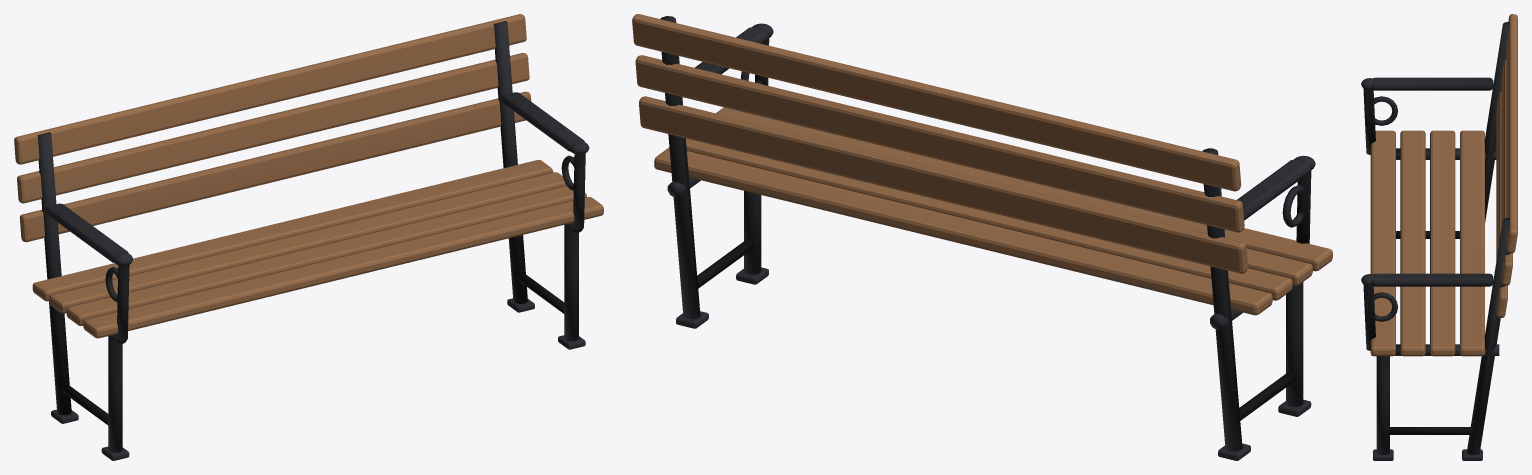
The model's file is bench.glb.
The picture shows the model from 3 angles, left to right: view 1: azimuth 30°, elevation 25°; view 2: azimuth 150°, elevation 25°; view 3: azimuth 270°, elevation 25°; orthographic projection. The views are drawn at different scales.
Parts seen in each view (by area): view 1: bench; view 2: bench; view 3: bench.
Part boxes in pixels (x1,y1,x2,y2): bench: (14, 14, 603, 460); bench: (632, 14, 1332, 460); bench: (1361, 14, 1517, 460).
Bounding box in the file's own units: 1.74 × 0.8861 × 0.528.
